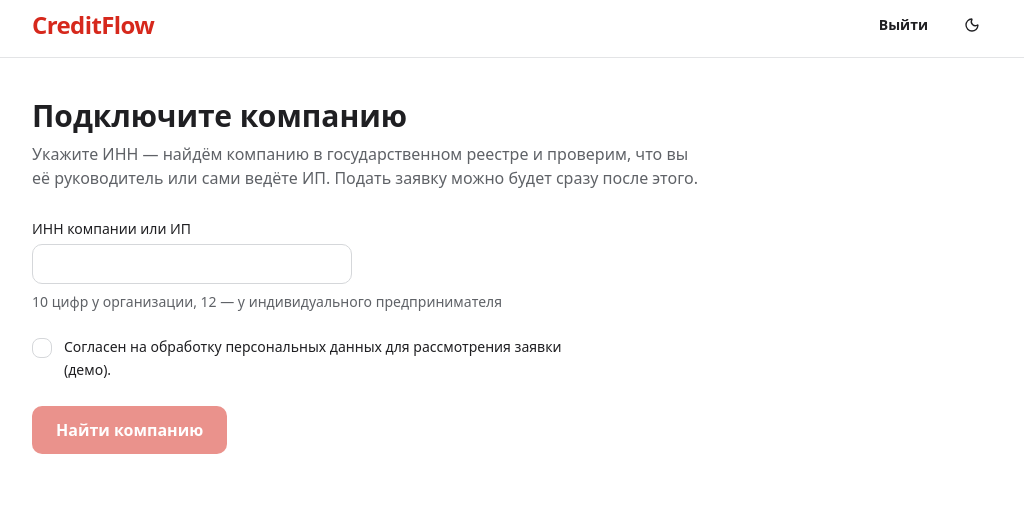
привязка компании › компании нет в реестре
Check: the heading "Подключите компанию" is shown, box [32,95,407,136]
In the field labelled "ИНН компании или ИП": [192, 264] box [32,244,352,284], type "7707083893"
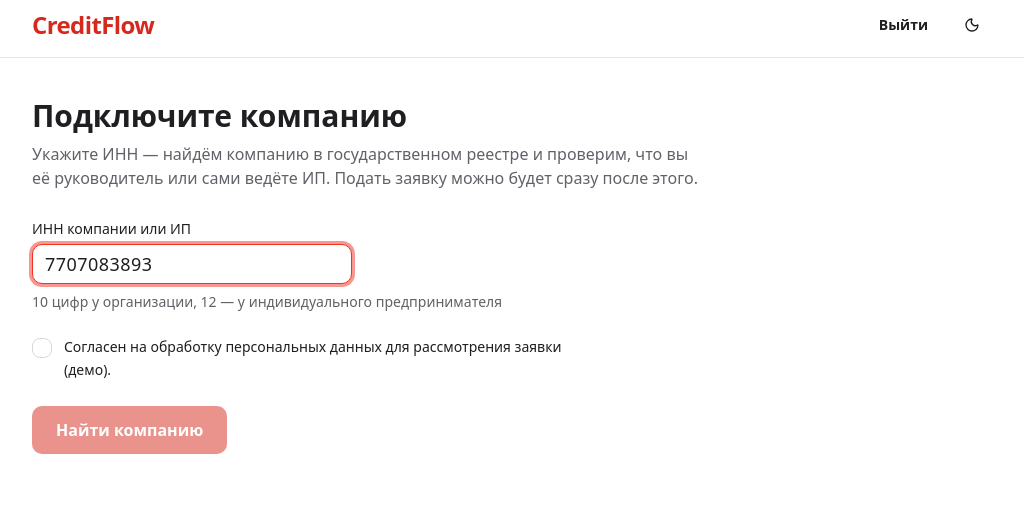
Click the checkbox: [42, 348] box [32,338,52,358]
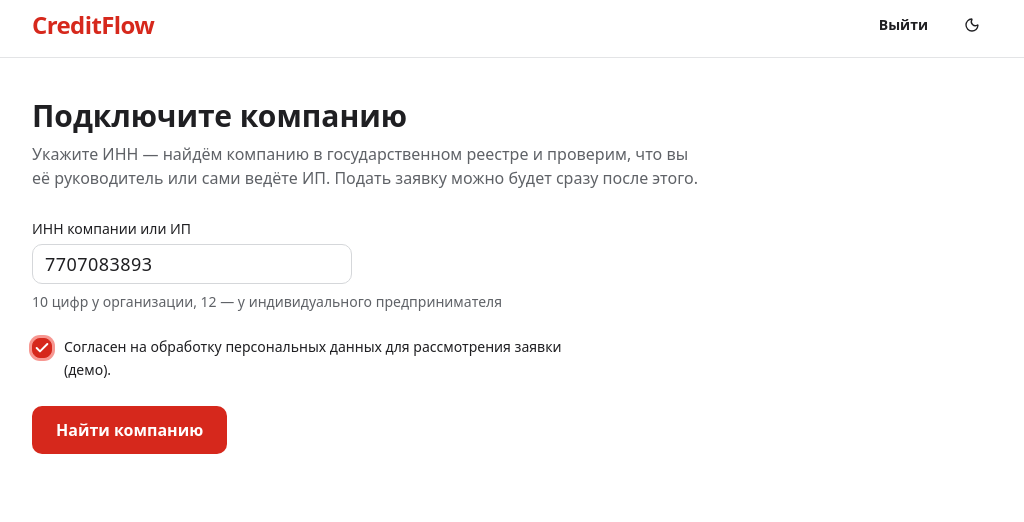
Click the button "Найти компанию": [130, 430] box [32,406,227,454]
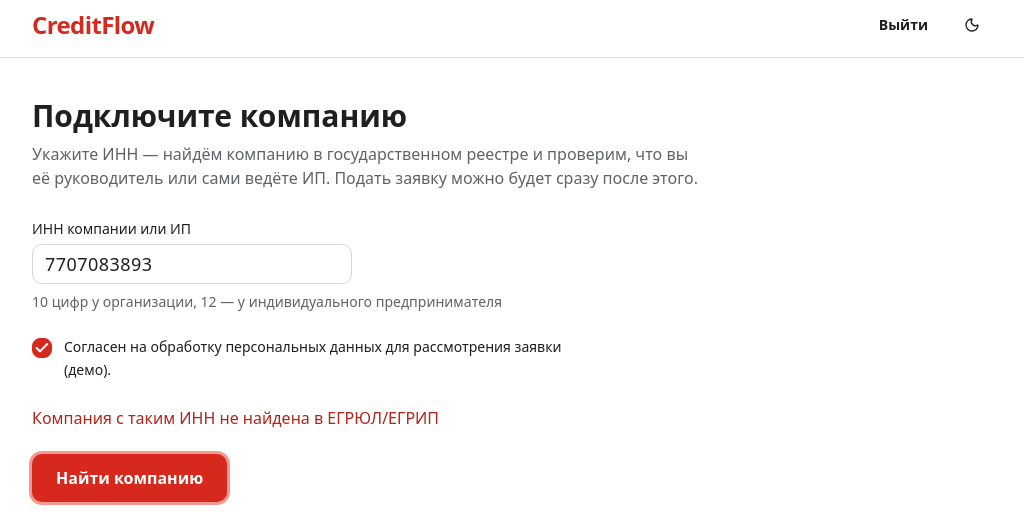
Check: the message shows "не найдена", box [32,406,439,428]
